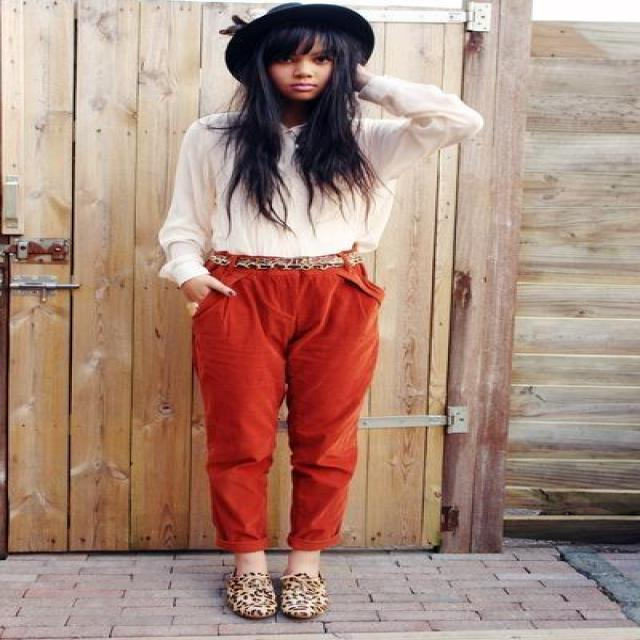hat: (219, 0, 373, 78)
pants: (190, 264, 381, 563)
shirt: (158, 70, 484, 284)
shoe: (214, 551, 330, 621)
